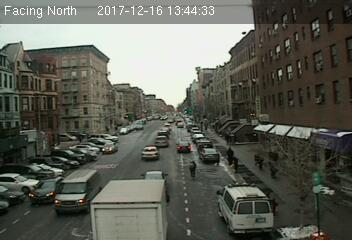bicycle: (188, 158, 198, 181)
car: (28, 177, 61, 198), (141, 145, 158, 160), (201, 148, 219, 162), (177, 140, 191, 153), (102, 143, 117, 154), (155, 135, 167, 147)
pedestrian: (269, 158, 277, 179), (256, 151, 264, 169), (232, 154, 239, 174)
police: (215, 182, 272, 234)
truck: (53, 170, 102, 210)
